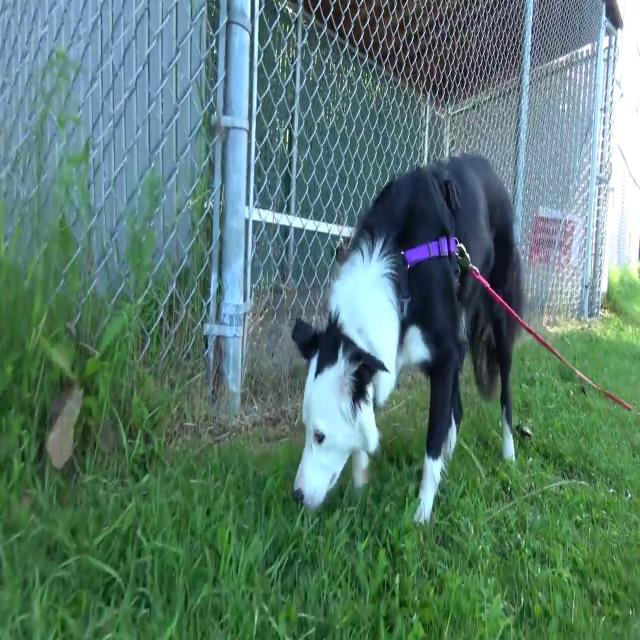Dog: (290, 152, 526, 528)
